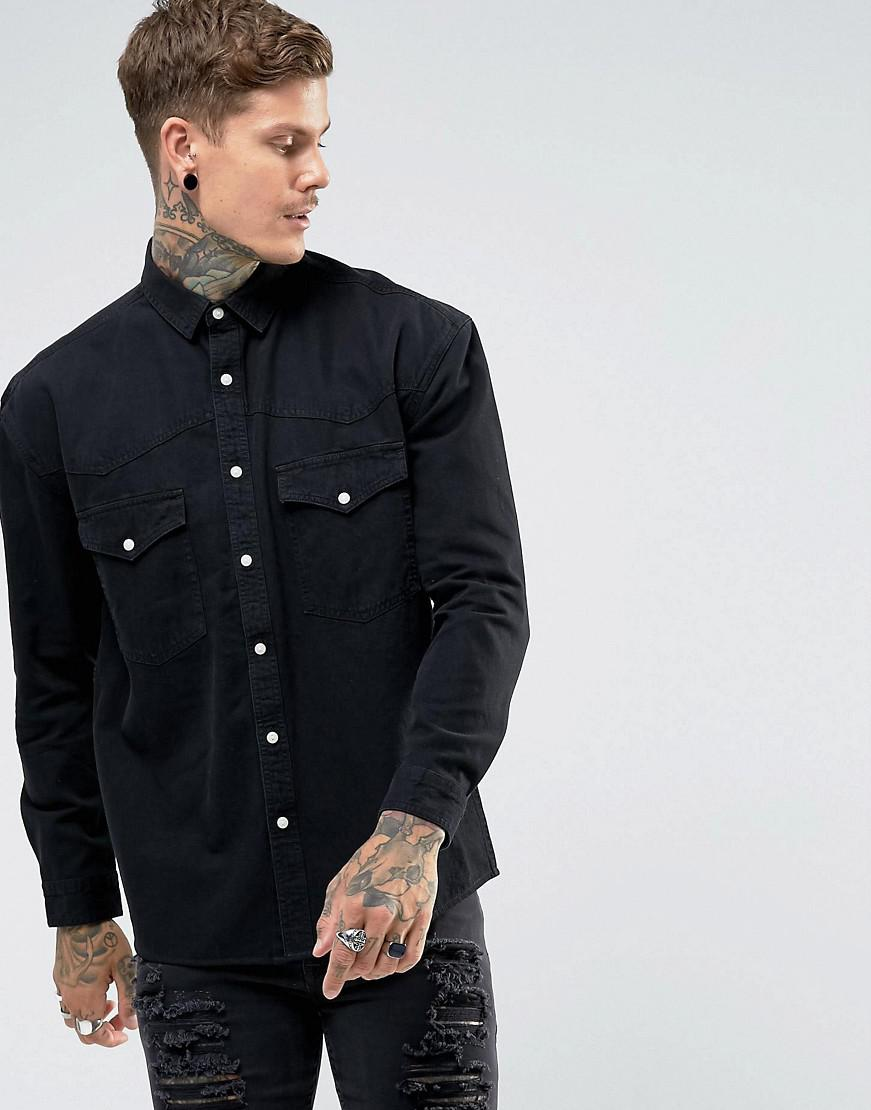teeshirt: (17, 254, 542, 981)
